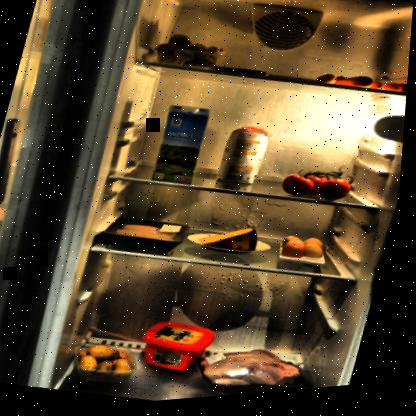butter: (136, 315, 225, 385)
carrot: (309, 66, 410, 109)
cheese: (201, 221, 266, 260)
chicken: (192, 334, 334, 401), (102, 211, 196, 264)
chocolate: (213, 64, 274, 87)
eggs: (280, 234, 337, 275)
milk: (153, 104, 216, 191)
mushrooms: (152, 27, 230, 78)
potato: (75, 339, 145, 392)
tomato: (279, 161, 364, 213)
